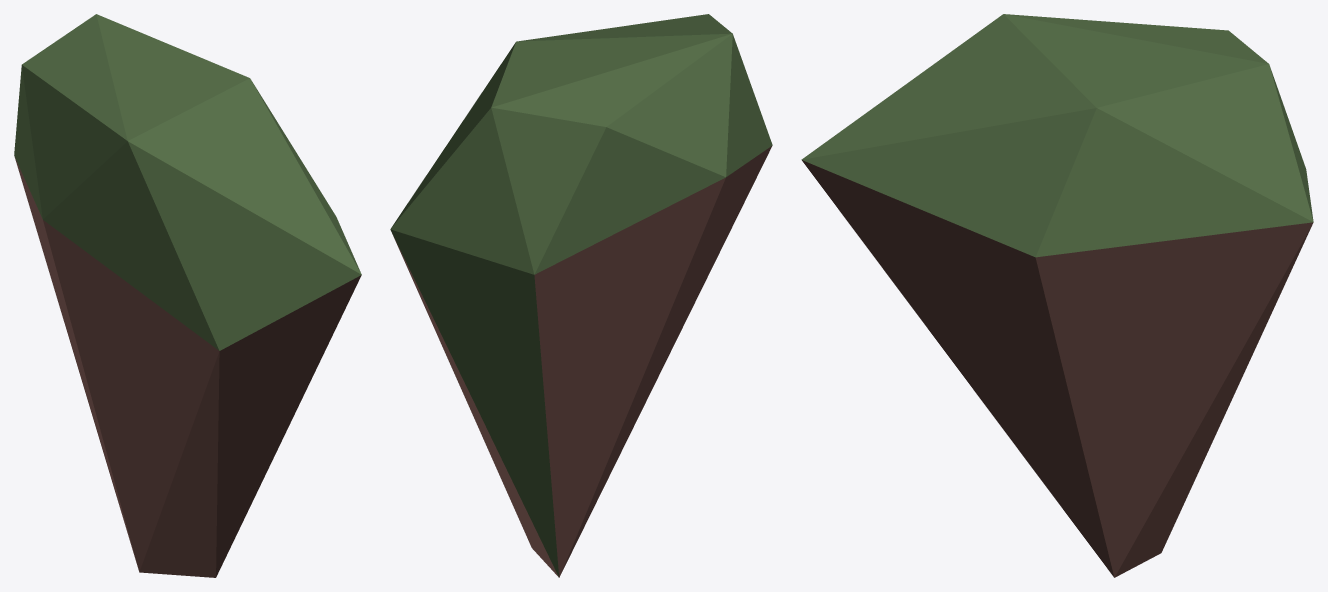
File: CommonTree_5.lod4.glb
3 views of the same model, side by side, from view 1: azimuth 30°, elevation 25°; view 2: azimuth 150°, elevation 25°; view 3: azimuth 270°, elevation 25° (orthographic). The views are drawn at different scales.
Visible parts, largest first — view 1: CommonTree_5; view 2: CommonTree_5; view 3: CommonTree_5.
Boxes of the visible parts, x1,y1,x2,y2 form: CommonTree_5: [14, 14, 361, 577]; CommonTree_5: [390, 14, 772, 577]; CommonTree_5: [801, 14, 1313, 577].
Size of the model in its own units: 1.34 by 2.5 by 2.34.
